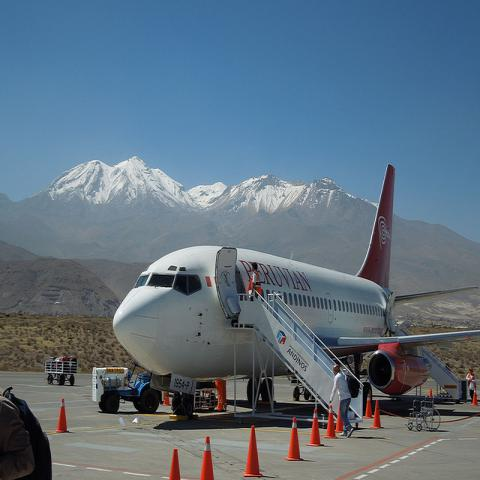truck: (90, 365, 163, 414)
